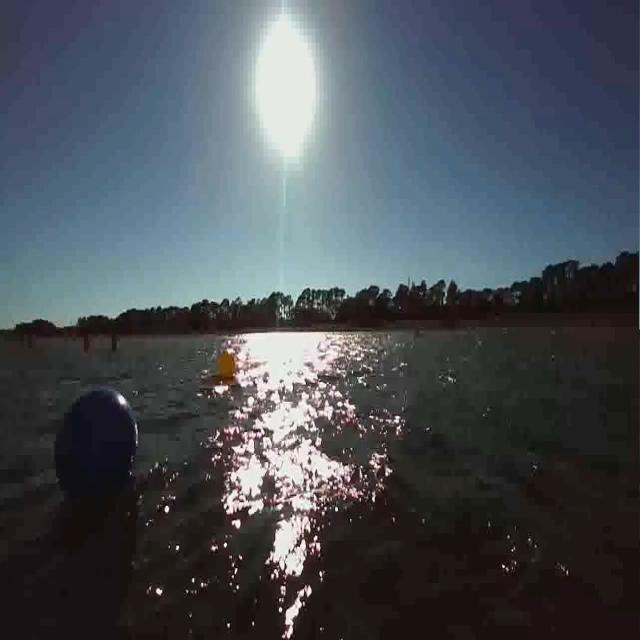blue-buoy: (50, 383, 139, 505)
yellow-buoy: (216, 348, 238, 380)
